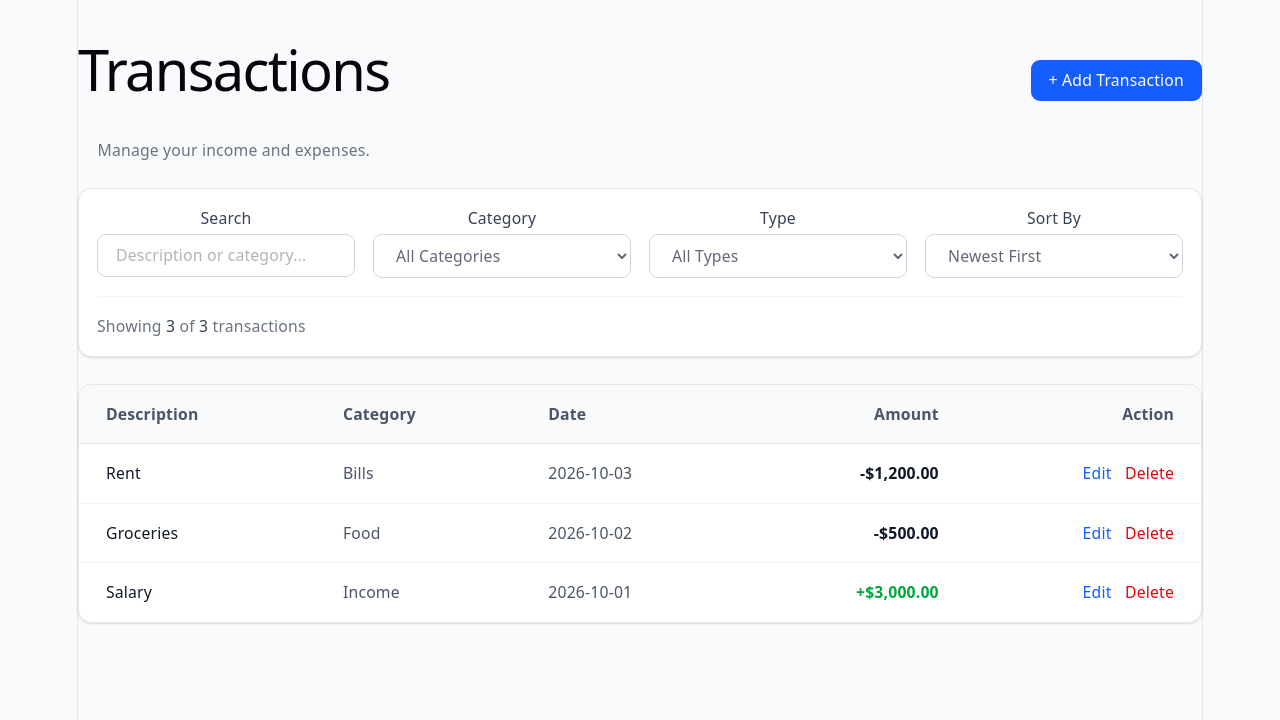
Test: TransactionsPage › filters transactions by search text
In the field with placeholder "Description or category...": (226, 255) [97,234,355,277], type "grocer"
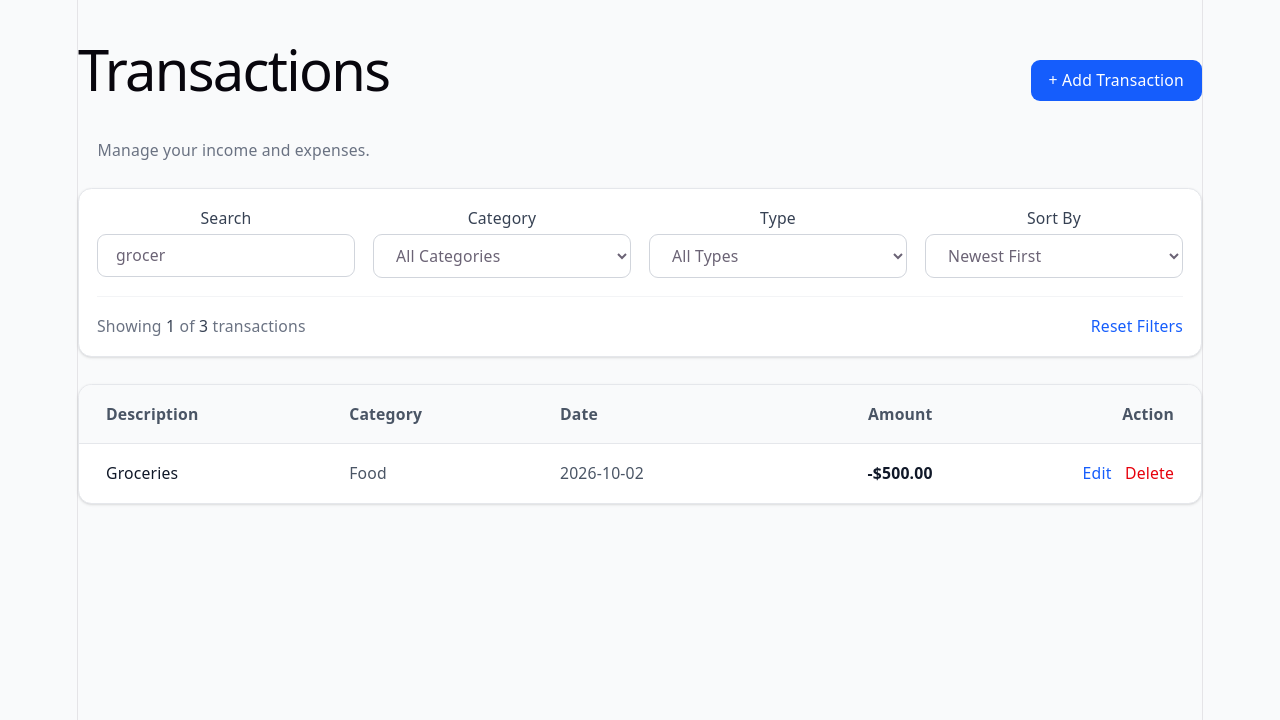
Expected: the text "Groceries" is shown, [79,444,322,503]
Result: the text "Salary" is gone
Result: the text "Rent" is gone
